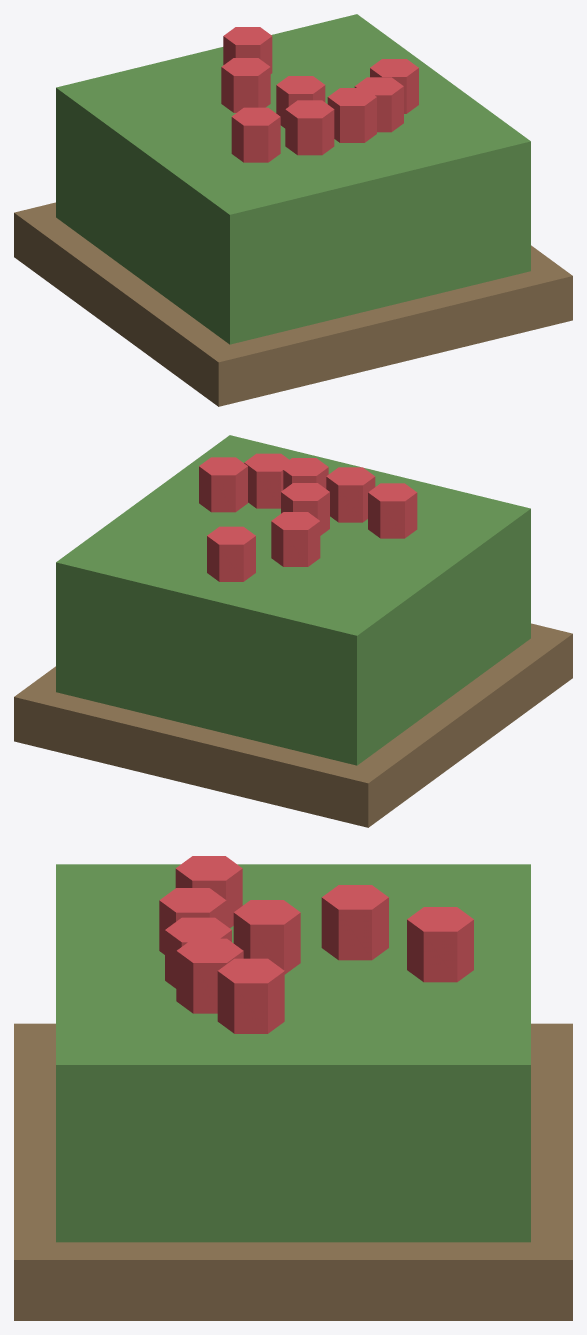
File: bed_roses.glb
The picture shows the model from 3 angles, top to bottom: view 1: azimuth 30°, elevation 25°; view 2: azimuth 150°, elevation 25°; view 3: azimuth 270°, elevation 25°; orthographic projection. The views are drawn at different scales.
Parts seen in each view (by area): view 1: BedRoses; view 2: BedRoses; view 3: BedRoses.
Part boxes in pixels (<box>): BedRoses: <box>14,14,572,406</box>; BedRoses: <box>14,435,572,827</box>; BedRoses: <box>14,856,572,1320</box>.
Bounding box in the file's own units: 1 × 0.57 × 1.
